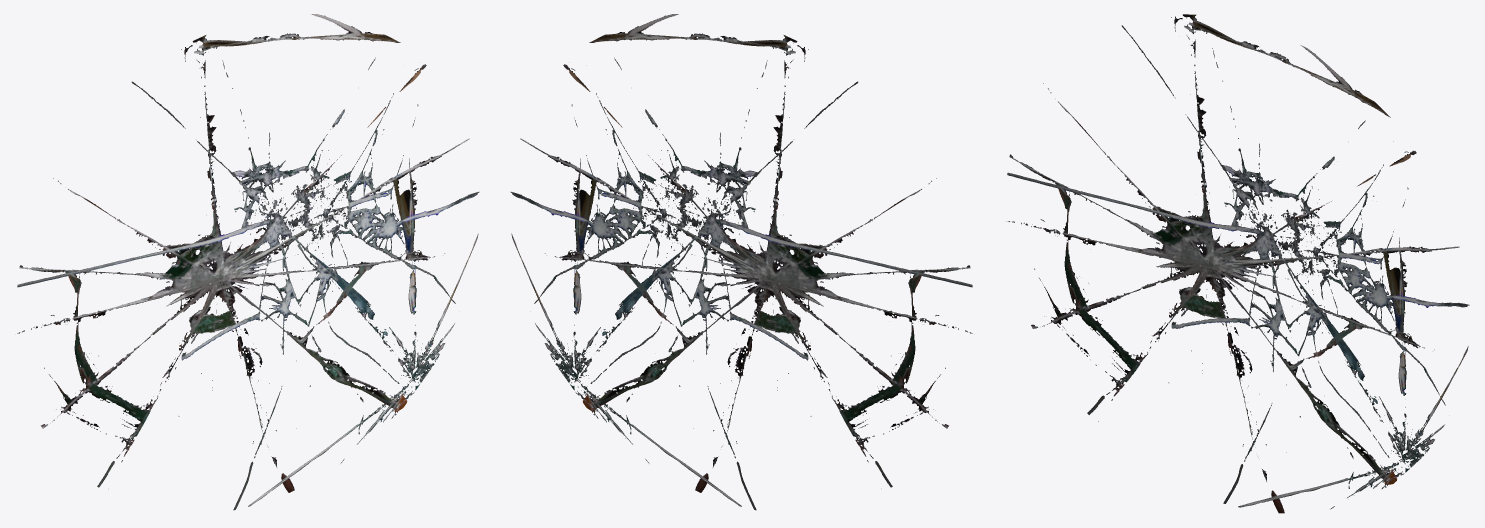
The model's file is Crack 3.fbx.
The picture shows the model from 3 angles, left to right: view 1: azimuth 30°, elevation 25°; view 2: azimuth 150°, elevation 25°; view 3: azimuth 330°, elevation 25°; orthographic projection.
Parts seen in each view (by area): view 1: pCylinder1; view 2: pCylinder1; view 3: pCylinder1.
Boxes of the visible parts, x1,y1,x2,y2 form: pCylinder1: (17,14,479,510); pCylinder1: (510,14,972,510); pCylinder1: (1007,14,1469,513).
Bounding box in the file's own units: 16.74 × 16.65 × 0.
1 material, 1 textured.
